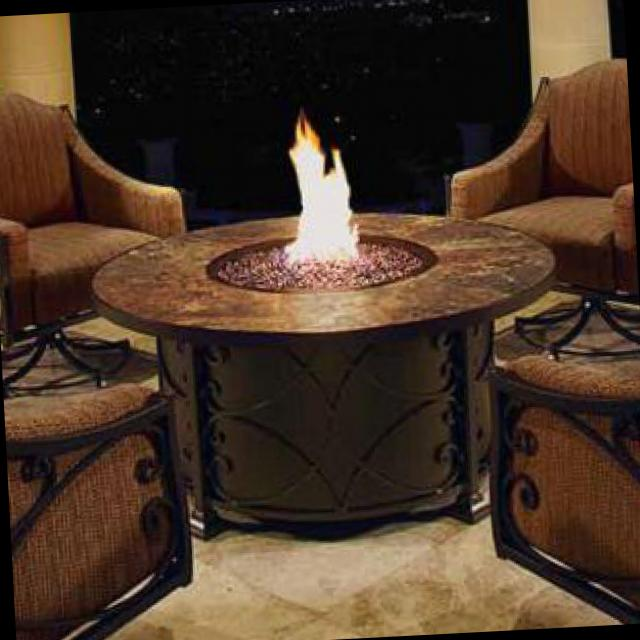fire: (278, 95, 360, 262)
